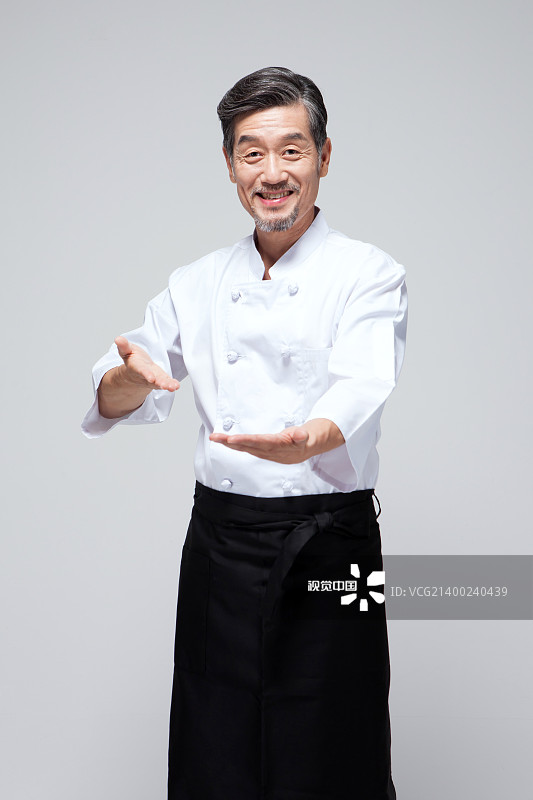no-phone: (202, 406, 353, 484), (95, 321, 194, 420)
